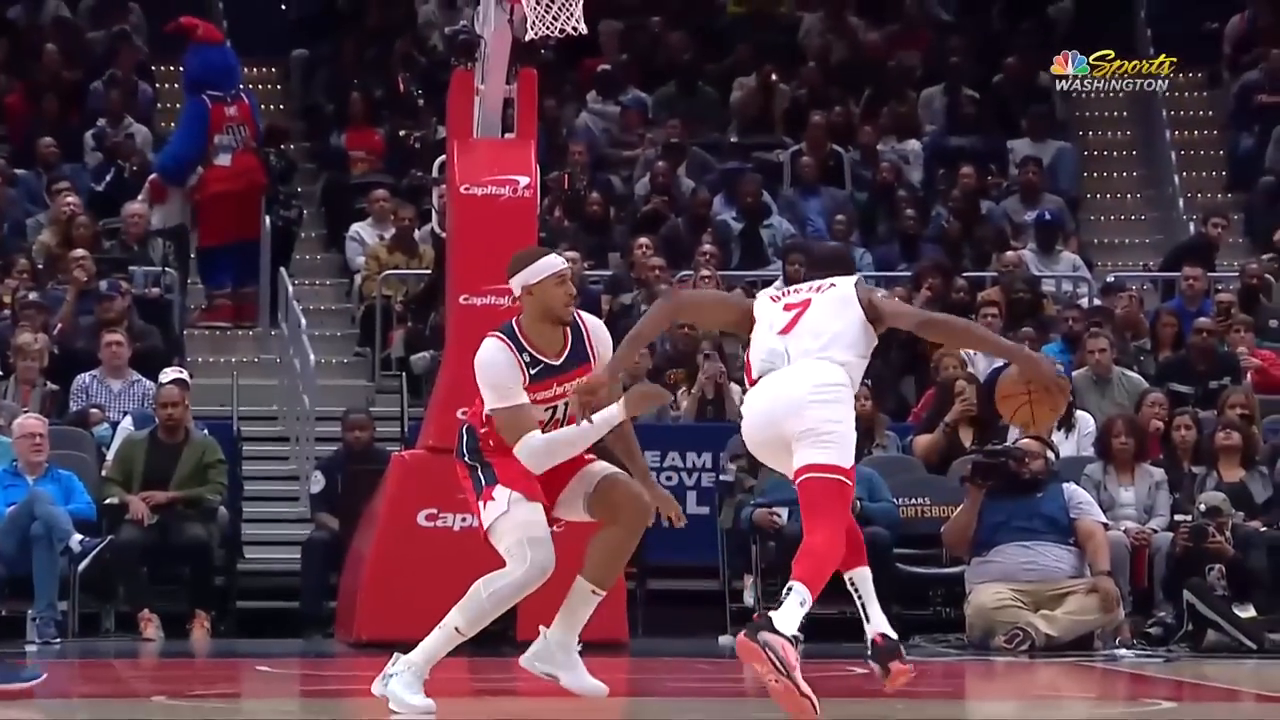ball: (992, 354, 1073, 435)
